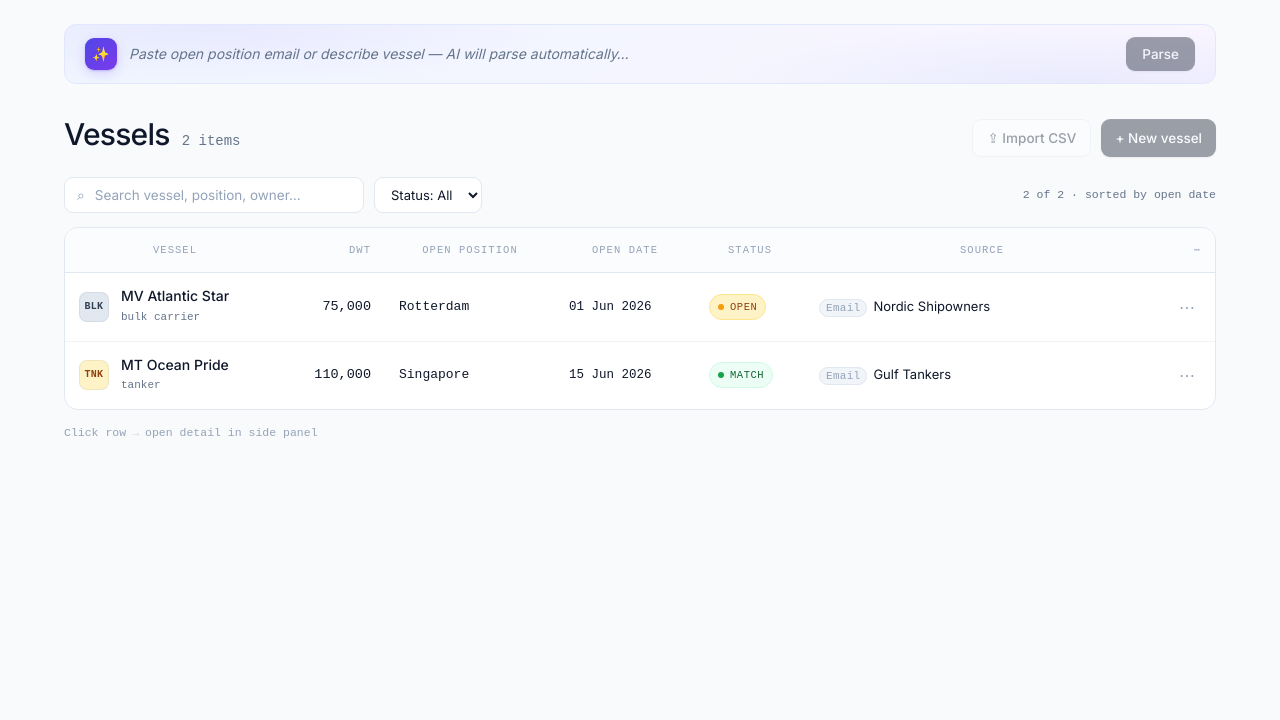
VesselsClient › closes side panel when close button is clicked
Click the row that starts with "BLK" at coordinates (640, 307), box [65,272,1215,341]
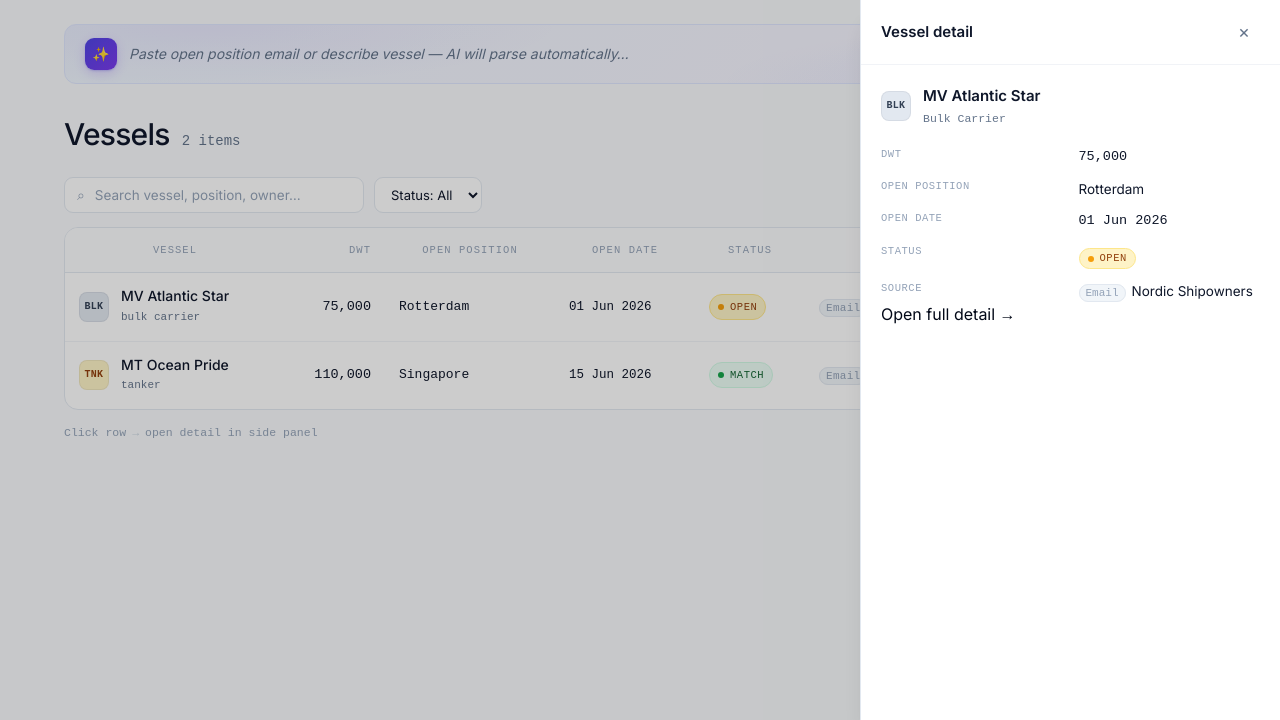
Check: the dialog "Vessel detail" is shown, box [860,0,1279,719]
Click the button named "Close panel" at coordinates (1244, 32), box [1228,16,1260,48]
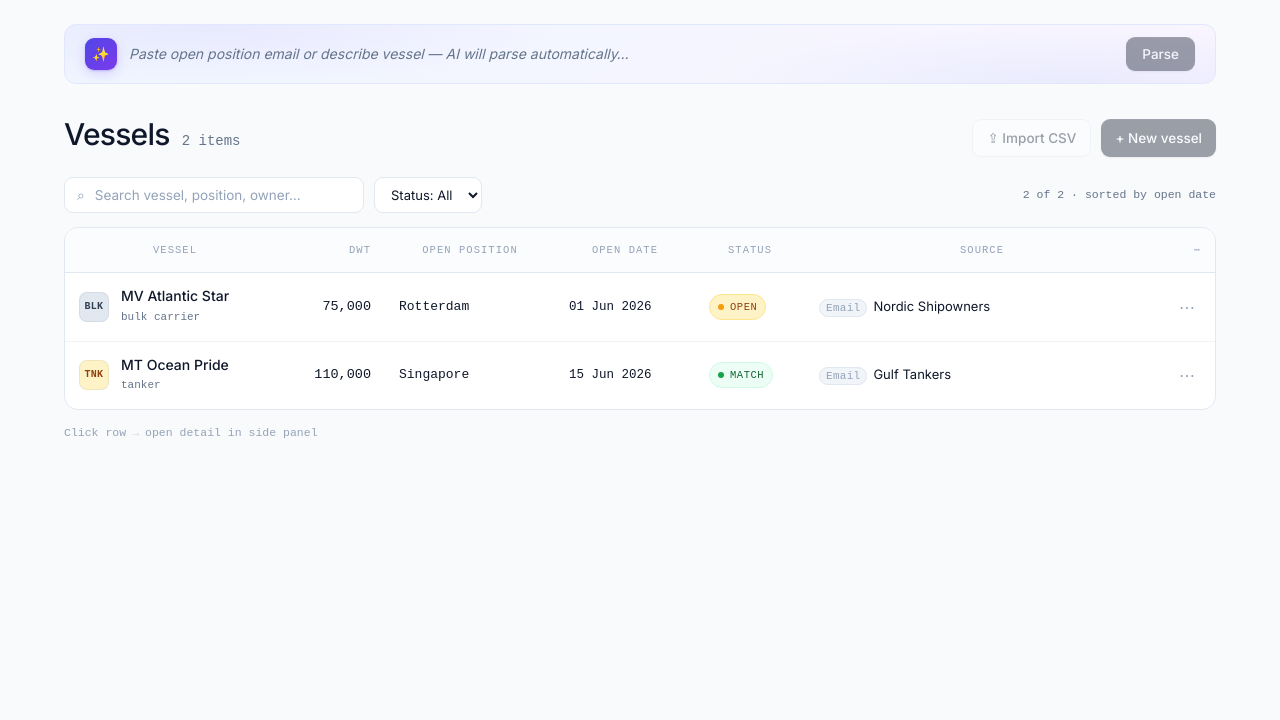
Check: the heading "Vessel detail" is gone
